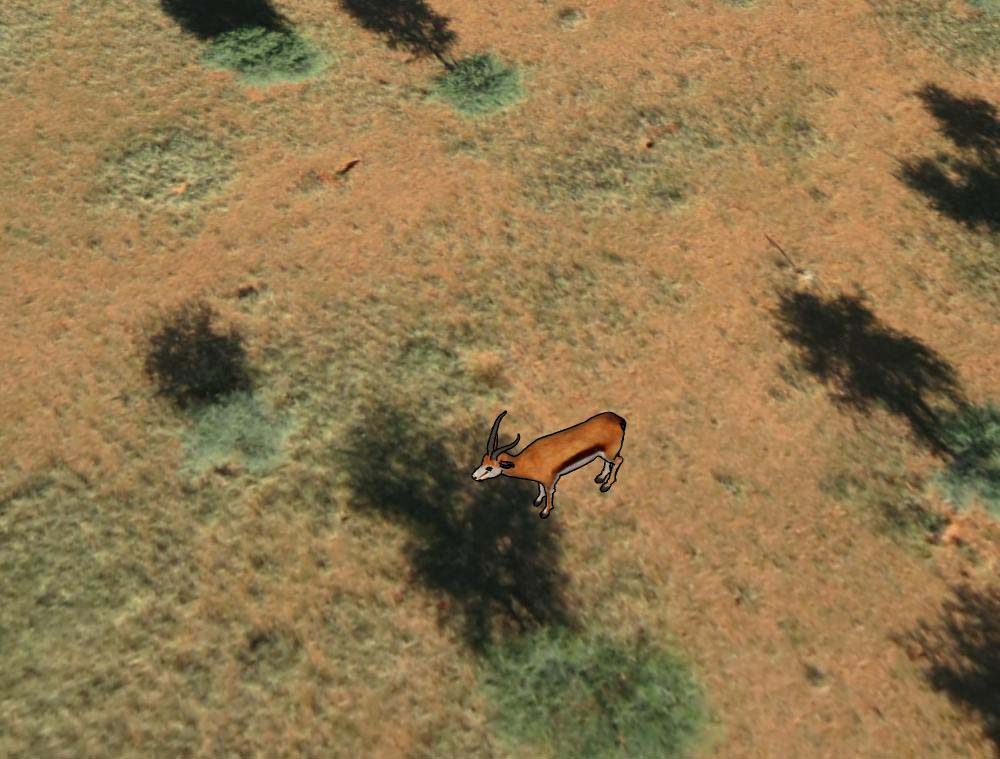springbok: (470, 399, 626, 520)
